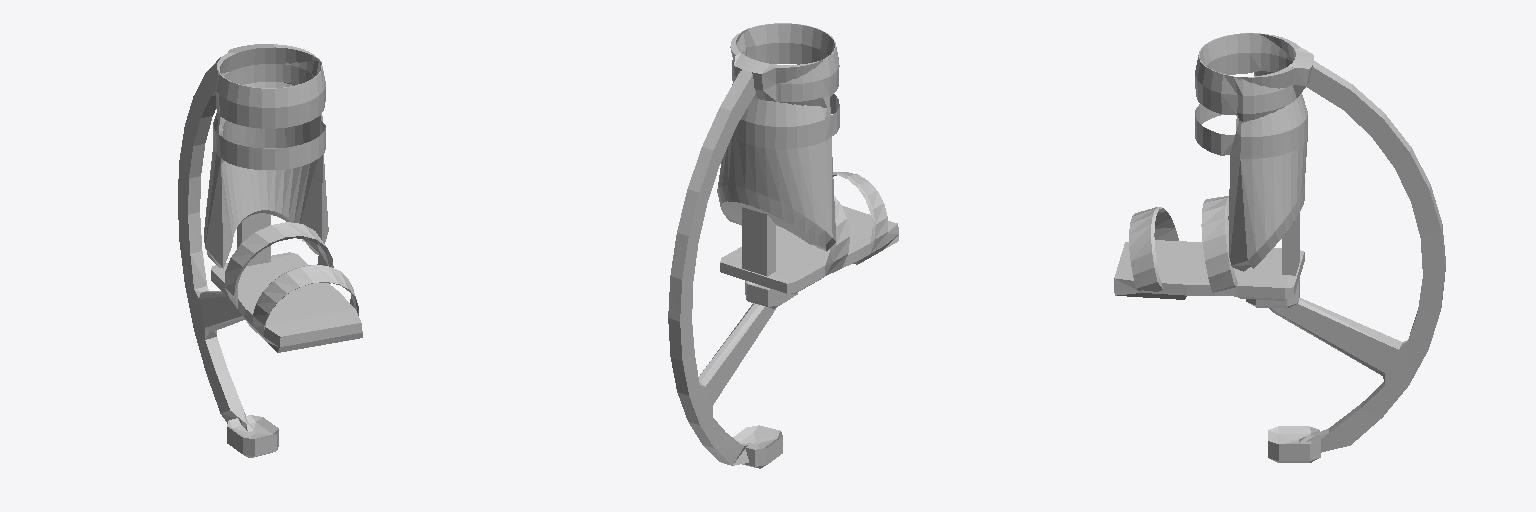
Rendered from pogo-boot.obj.
3 views of the same model, side by side, from view 1: azimuth 30°, elevation 25°; view 2: azimuth 150°, elevation 25°; view 3: azimuth 270°, elevation 25° (orthographic).
Parts seen in each view (by area): view 1: Cylinder, Cube.001_Cube.002, Cylinder.001_Cylinder.002, Cube.002_Cube, Cube_Cube.001; view 2: Cylinder, Cylinder.001_Cylinder.002, Cube.001_Cube.002, Cube_Cube.001, Cube.002_Cube, Cube.003; view 3: Cylinder, Cylinder.001_Cylinder.002, Cube.001_Cube.002, Cube.002_Cube, Cube_Cube.001.
Part boxes in pixels (x1,y1,x2,y2): Cylinder: (204, 44, 328, 268); Cube.001_Cube.002: (211, 222, 362, 352); Cylinder.001_Cylinder.002: (178, 57, 252, 431); Cube.002_Cube: (227, 415, 278, 457); Cube_Cube.001: (237, 213, 270, 265); Cylinder: (717, 23, 839, 251); Cylinder.001_Cylinder.002: (668, 70, 776, 465); Cube.001_Cube.002: (720, 172, 898, 293); Cube_Cube.001: (742, 207, 775, 276); Cube.002_Cube: (733, 425, 782, 468); Cube.003: (745, 280, 797, 308); Cylinder: (1195, 33, 1313, 271); Cylinder.001_Cylinder.002: (1269, 61, 1445, 452); Cube.001_Cube.002: (1114, 196, 1304, 300); Cube.002_Cube: (1268, 426, 1320, 462); Cube_Cube.001: (1282, 213, 1299, 275).
Size of the model in its own units: 2.54 by 8.4 by 6.32.